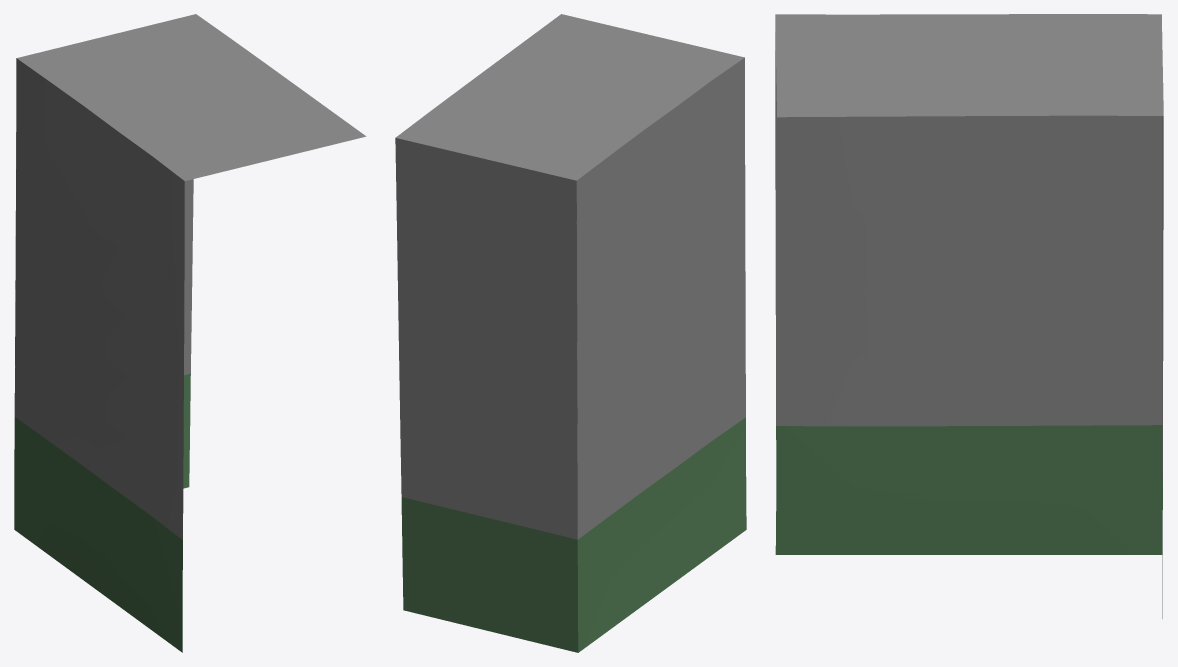
Rendered from Mapa 12.fbx.
3 views of the same model, side by side, from view 1: azimuth 30°, elevation 25°; view 2: azimuth 150°, elevation 25°; view 3: azimuth 270°, elevation 25° (orthographic). The views are drawn at different scales.
Visible parts, largest first — view 1: pPlane10; view 2: pPlane10; view 3: pPlane10.
Boxes of the visible parts, box(x1,y1,x2,y2) form: pPlane10: box(14, 14, 366, 652); pPlane10: box(395, 14, 746, 652); pPlane10: box(775, 14, 1163, 618).
Size of the model in its own units: 20.44 by 49.95 by 32.44.
